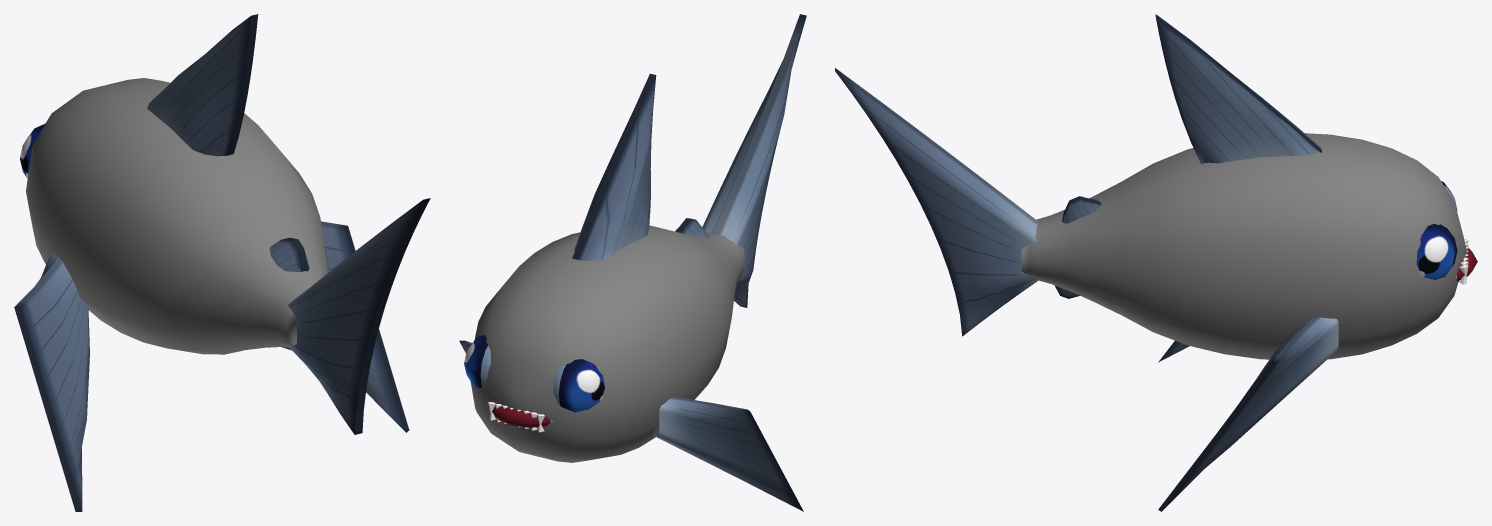
File: Fish_ReefShark.glb
3 views of the same model, side by side, from view 1: azimuth 30°, elevation 25°; view 2: azimuth 150°, elevation 25°; view 3: azimuth 270°, elevation 25° (orthographic). The views are drawn at different scales.
Parts seen in each view (by area): view 1: Outline, Tail, FinL, Fin_Dorsal, FinR, Eye; view 2: Outline, Fin_Dorsal, Tail, FinL, Eye, Body; view 3: Outline, Tail, Fin_Dorsal, FinR, Eye.
Part boxes in pixels (left/top/right/bottom): Outline: left=26, top=78, right=328, bottom=354; Tail: left=287, top=198, right=430, bottom=434; FinL: left=14, top=252, right=89, bottom=511; Fin_Dorsal: left=147, top=14, right=309, bottom=271; FinR: left=321, top=221, right=409, bottom=432; Eye: left=20, top=123, right=45, bottom=178; Outline: left=470, top=225, right=745, bottom=462; Fin_Dorsal: left=572, top=73, right=708, bottom=260; Tail: left=702, top=14, right=806, bottom=307; FinL: left=652, top=397, right=803, bottom=511; Eye: left=464, top=335, right=604, bottom=412; Body: left=487, top=402, right=553, bottom=432; Outline: left=1021, top=133, right=1466, bottom=359; Tail: left=835, top=68, right=1038, bottom=336; Fin_Dorsal: left=1062, top=14, right=1321, bottom=223; FinR: left=1158, top=317, right=1338, bottom=511; Eye: left=1416, top=181, right=1457, bottom=279.
Bounding box in the file's own units: 1.68 × 2.19 × 3.
1 material, 1 textured.
